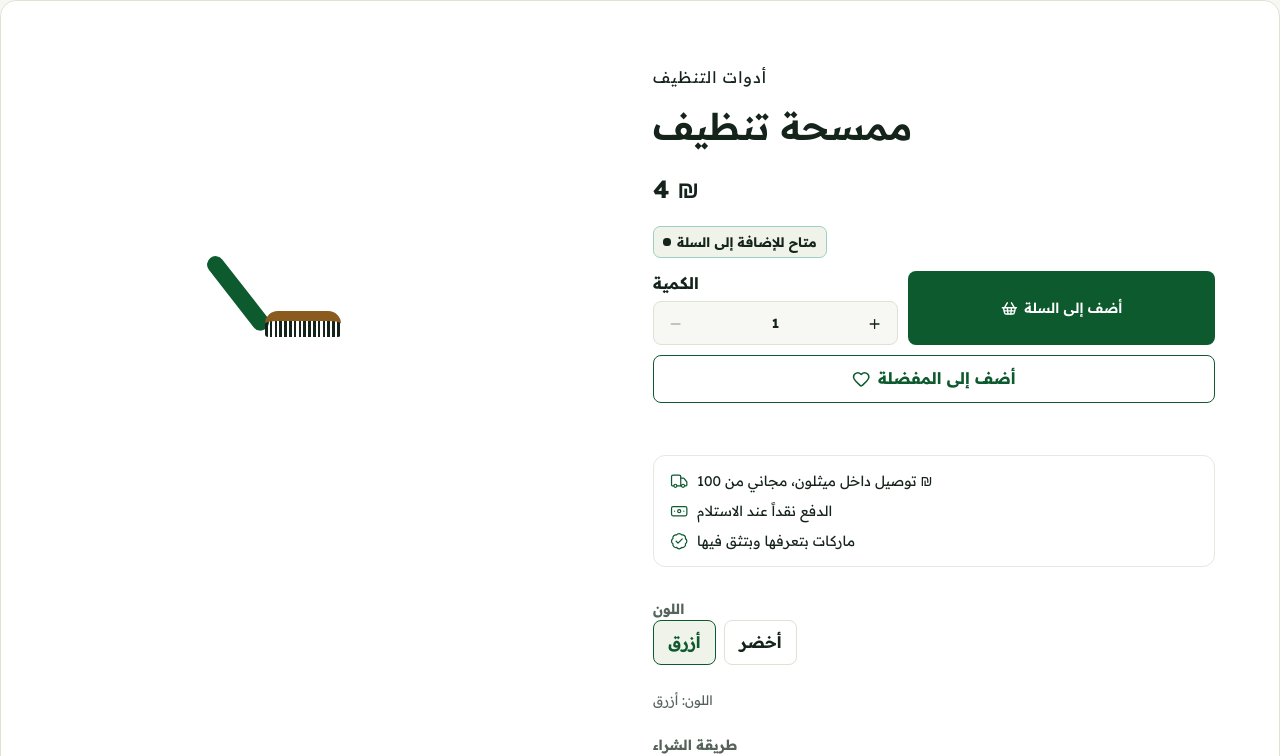
Test case: product page selling units › disables the pack when stock cannot fill it and caps singles
The width and height of the screenshot is (1280, 756).
What coordinates should you click on to do the following:
click the button named "زيادة كمية ممسحة تنظيف"
I would click on:
 (875, 324)
Its box is [853, 302, 897, 346].
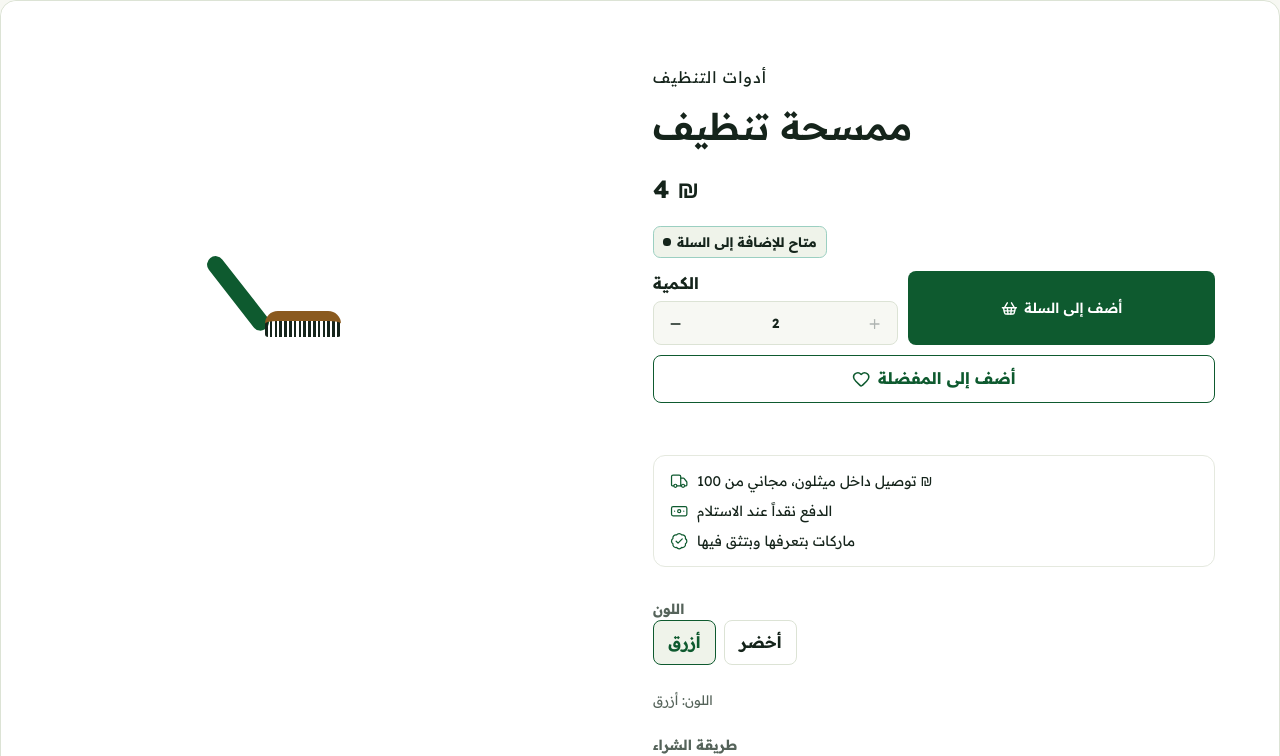
Now the button named "زيادة كمية ممسحة تنظيف" is disabled, box [853, 302, 897, 345]
